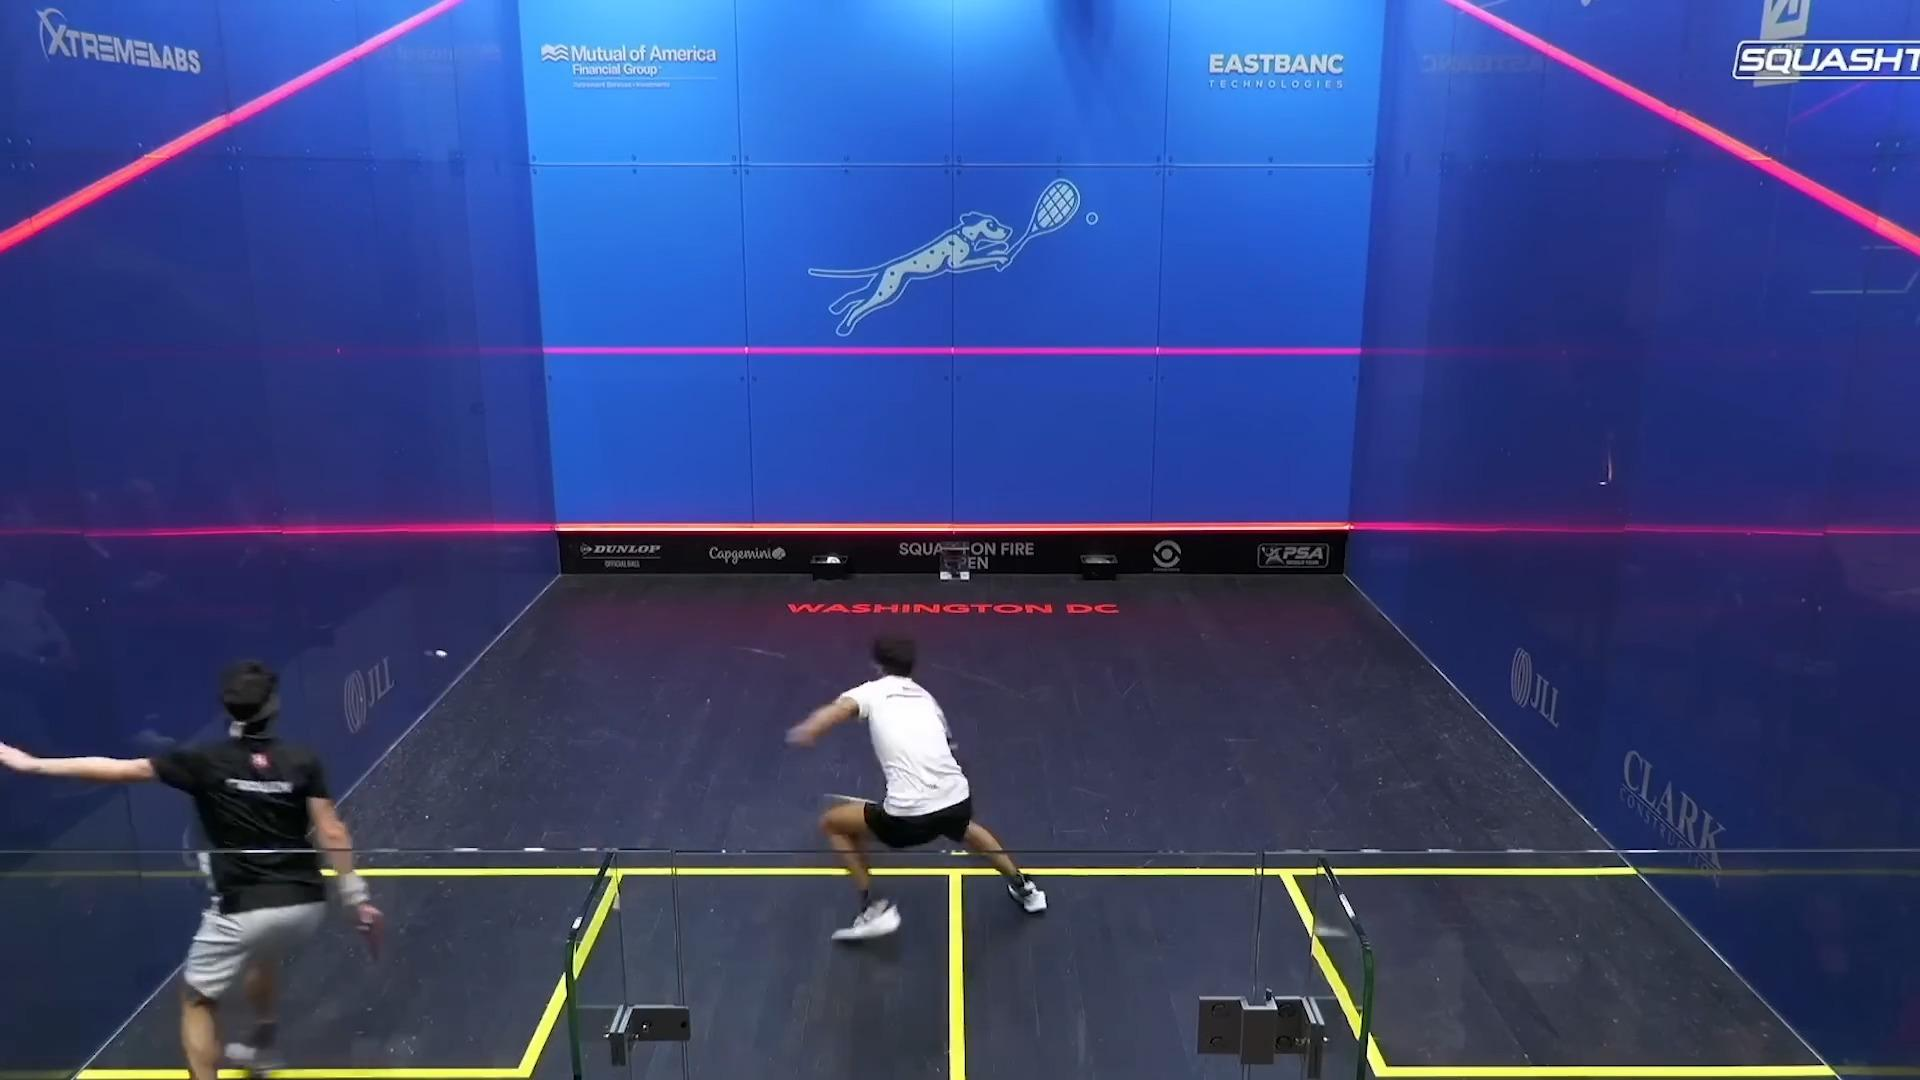Squash-Ball: (426, 638, 455, 667)
